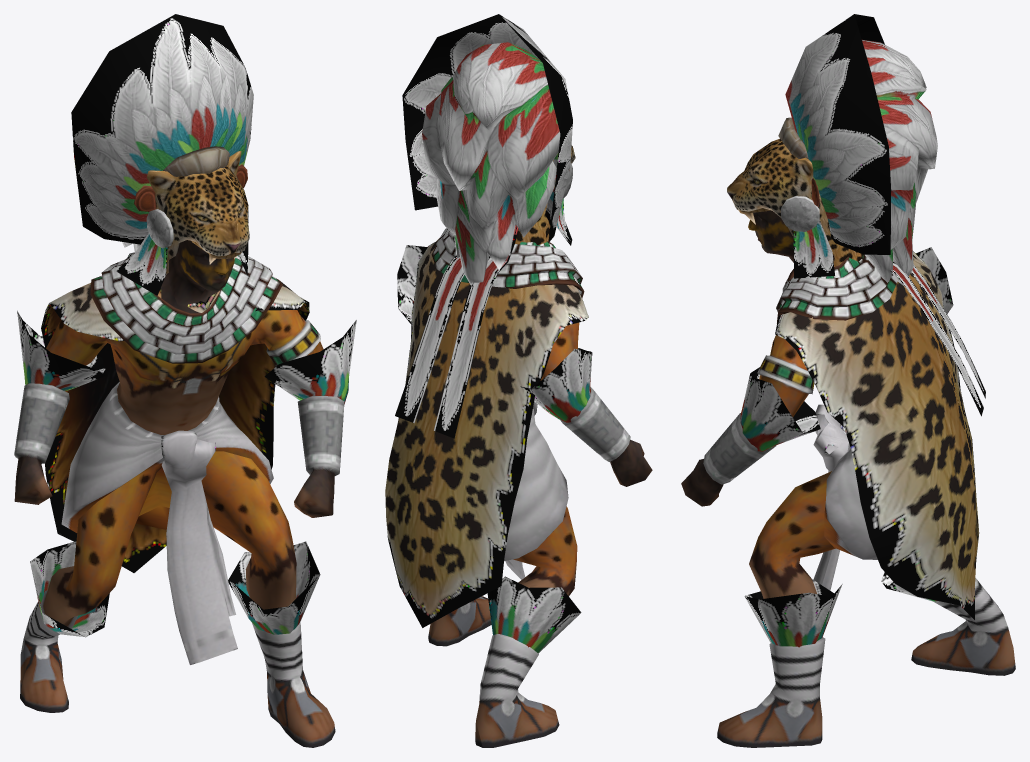
File: body-championnobleshutsoldiers.glb
3 views of the same model, side by side, from view 1: azimuth 30°, elevation 25°; view 2: azimuth 150°, elevation 25°; view 3: azimuth 270°, elevation 25° (orthographic). The views are drawn at different scales.
Bounding box in the file's own units: 1.06 × 2.34 × 1.03.
2 materials, 2 textured.
